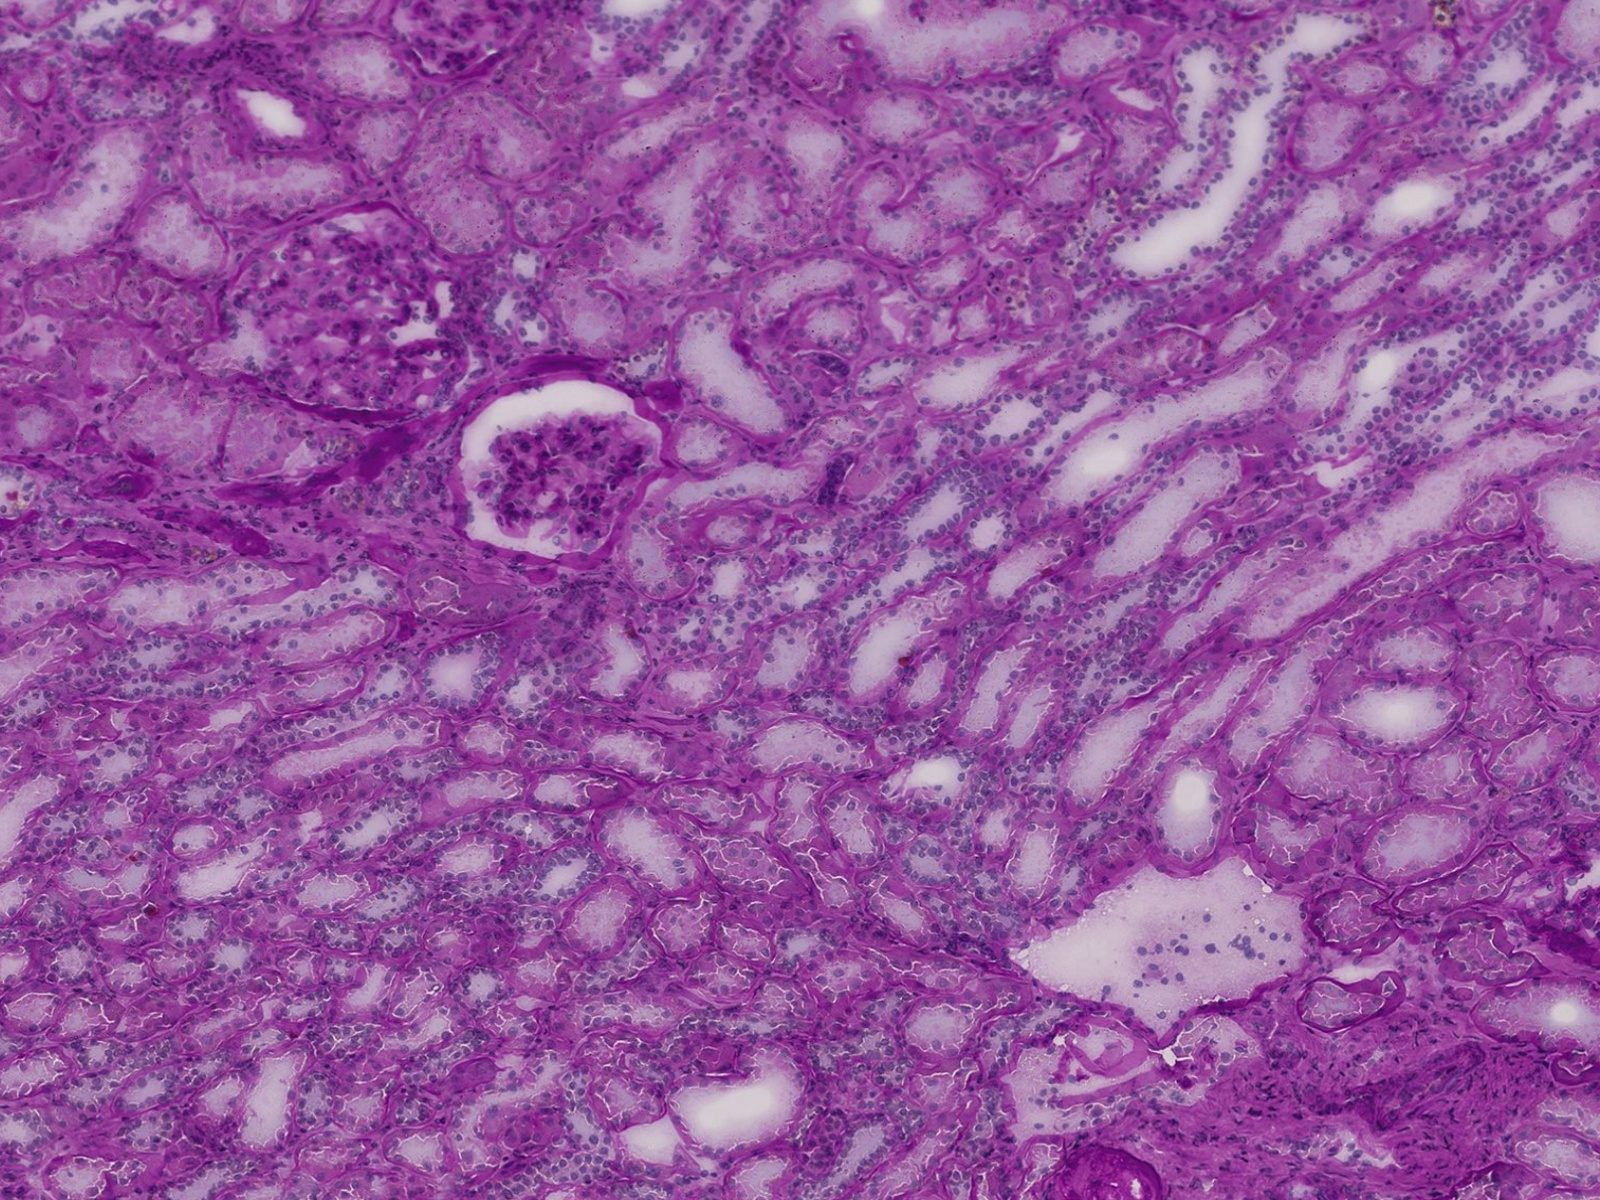Glomeruli: (227, 199, 474, 426), (454, 379, 677, 567), (383, 5, 535, 88)
